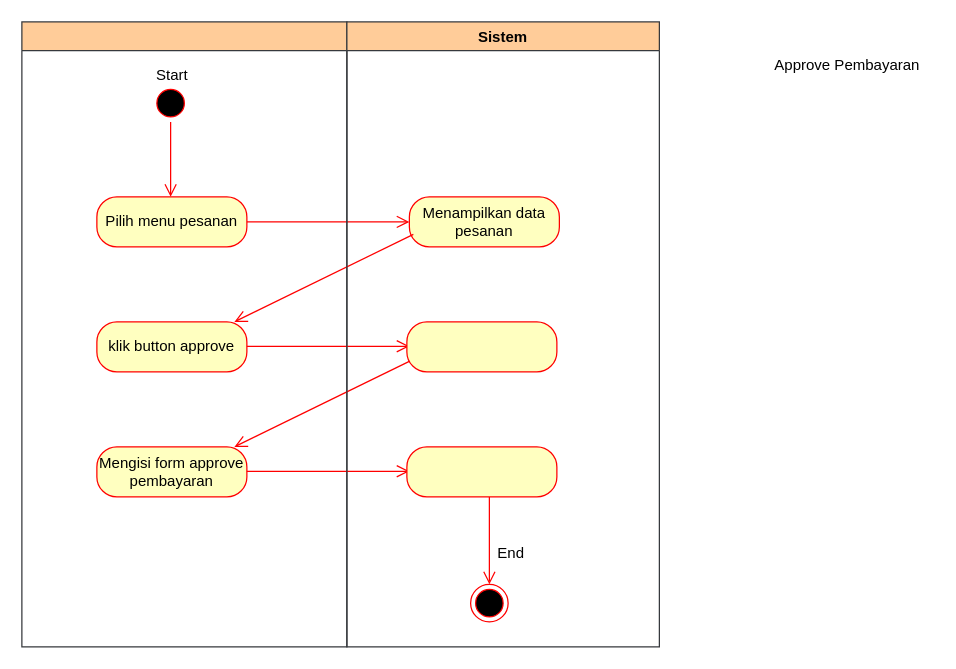
Some shapes in this 956 by 669 pixel diagram are drawn without their labels. Here are the shapes that lost their labels. From the top down, the box of each, then its label:
(21, 21, 347, 647): Pegawai
(406, 321, 557, 372): Menampilkan form approve pembayaran
(406, 446, 557, 497): update status pembayaran approved
